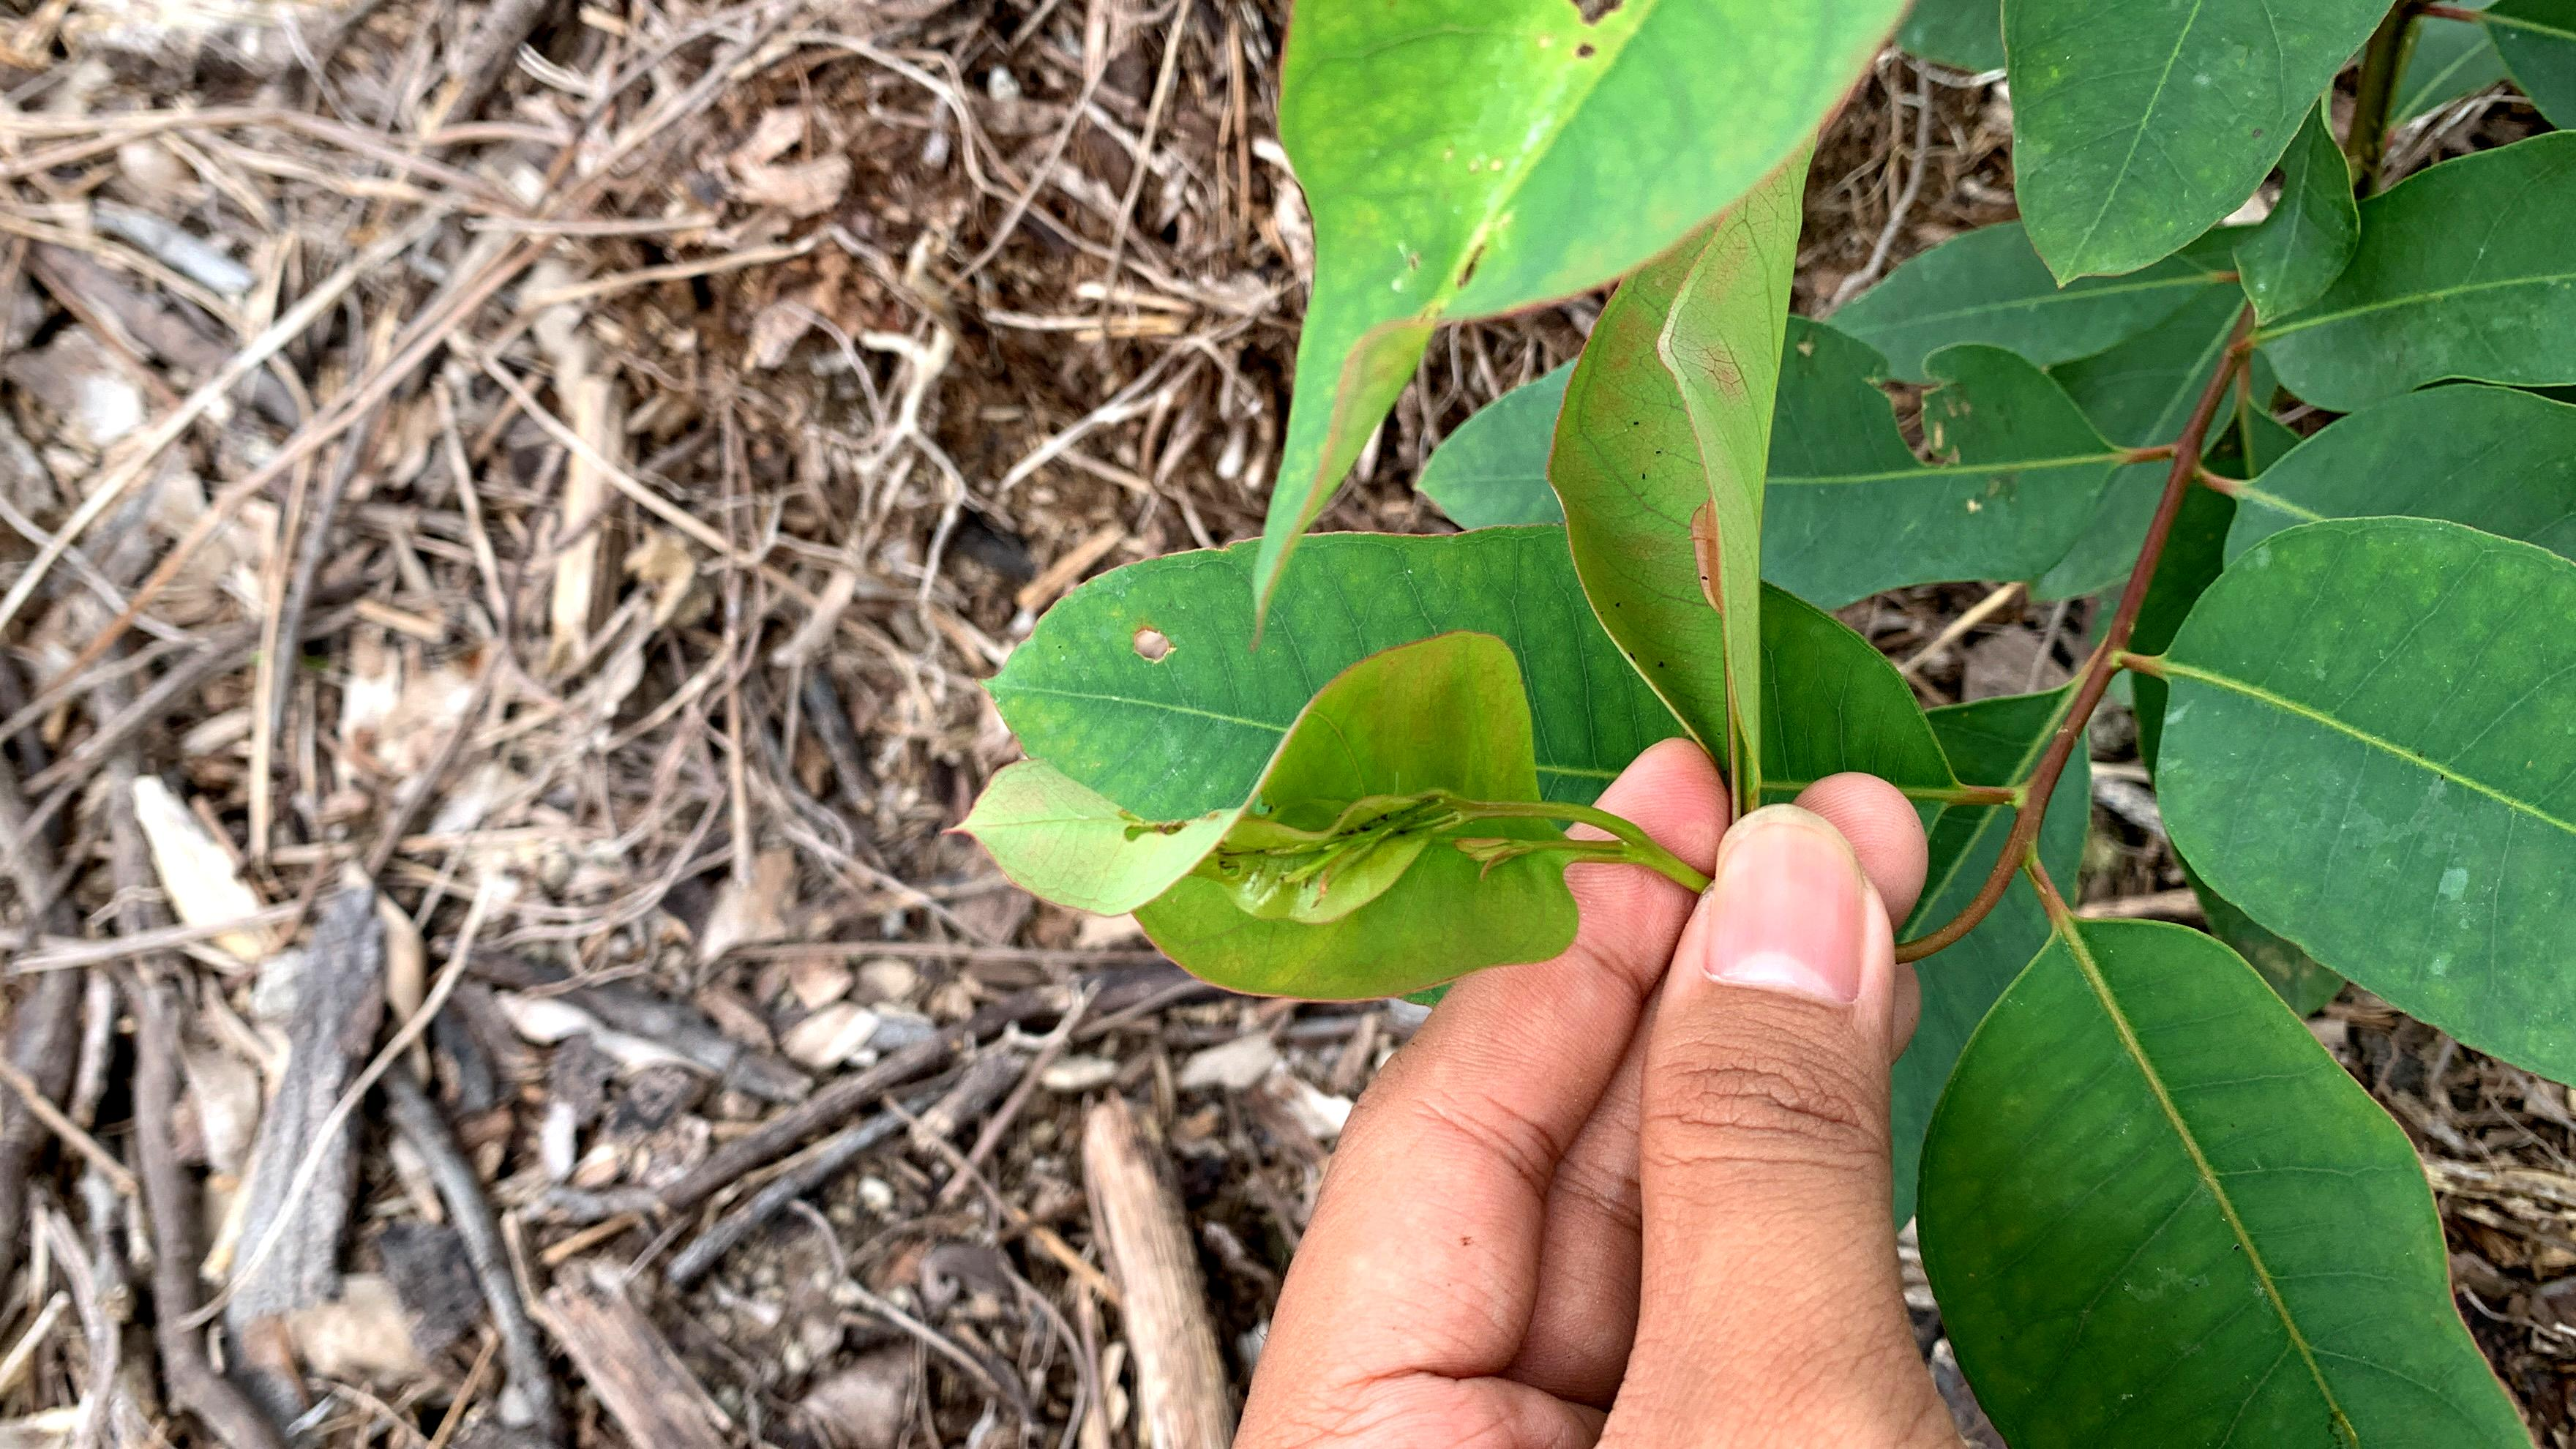Leaf Roller - Leaf: (951, 663, 1618, 995)
